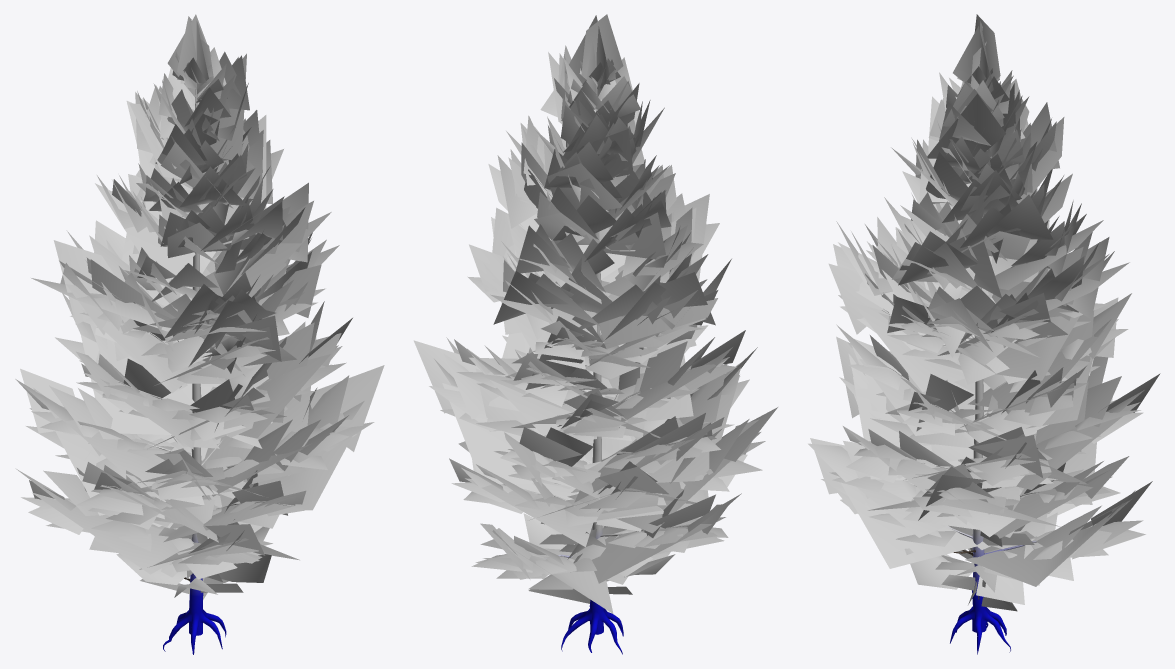
File: Tree6_LOD0.fbx
The picture shows the model from 3 angles, left to right: view 1: azimuth 30°, elevation 25°; view 2: azimuth 150°, elevation 25°; view 3: azimuth 270°, elevation 25°; orthographic projection.
Visible parts, largest first — view 1: polySurface3151; view 2: polySurface3151; view 3: polySurface3151.
Part boxes in pixels (left/top/right/bottom): polySurface3151: left=15, top=14, right=384, bottom=654; polySurface3151: left=413, top=14, right=777, bottom=654; polySurface3151: left=808, top=14, right=1160, bottom=654.
Size of the model in its own units: 484 by 881 by 450.
